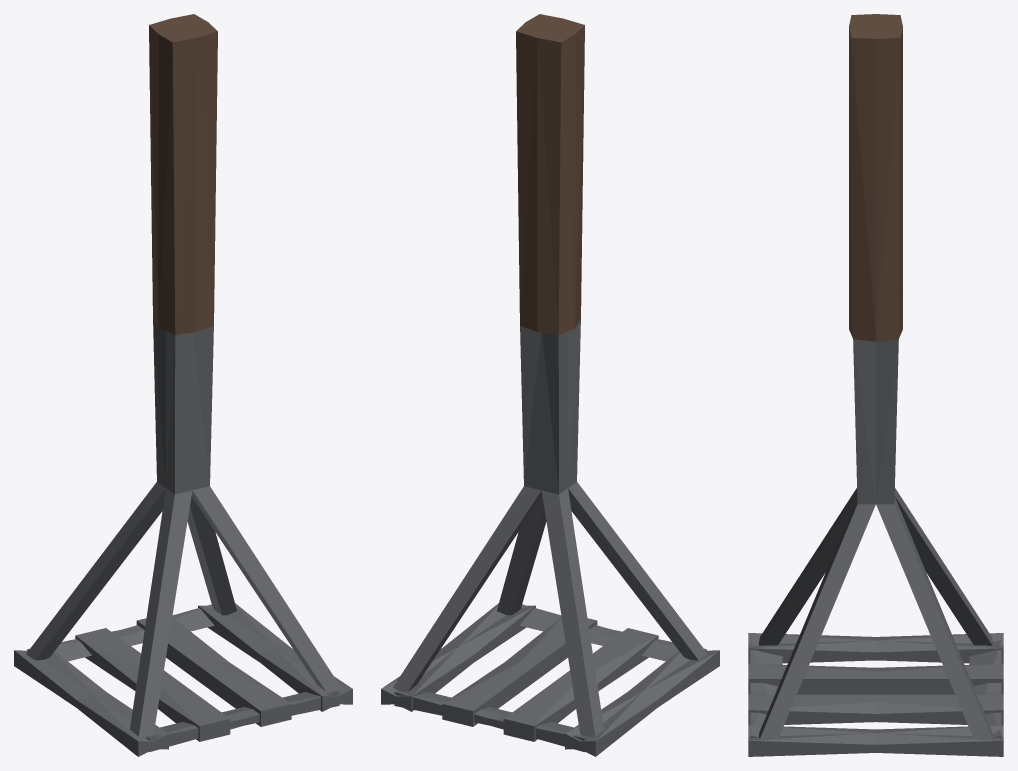
The model's file is potatoMasher.fbx.
The picture shows the model from 3 angles, left to right: view 1: azimuth 30°, elevation 25°; view 2: azimuth 150°, elevation 25°; view 3: azimuth 270°, elevation 25°; orthographic projection. The views are drawn at different scales.
Visible parts, largest first — view 1: potatoMasher; view 2: potatoMasher; view 3: potatoMasher.
Part boxes in pixels (<box>): potatoMasher: <box>14,14,352,756</box>; potatoMasher: <box>381,14,719,756</box>; potatoMasher: <box>748,14,1003,756</box>.
Bounding box in the file's own units: 16.71 × 48.89 × 16.73.
Materials: 1 (1 with a texture image).
